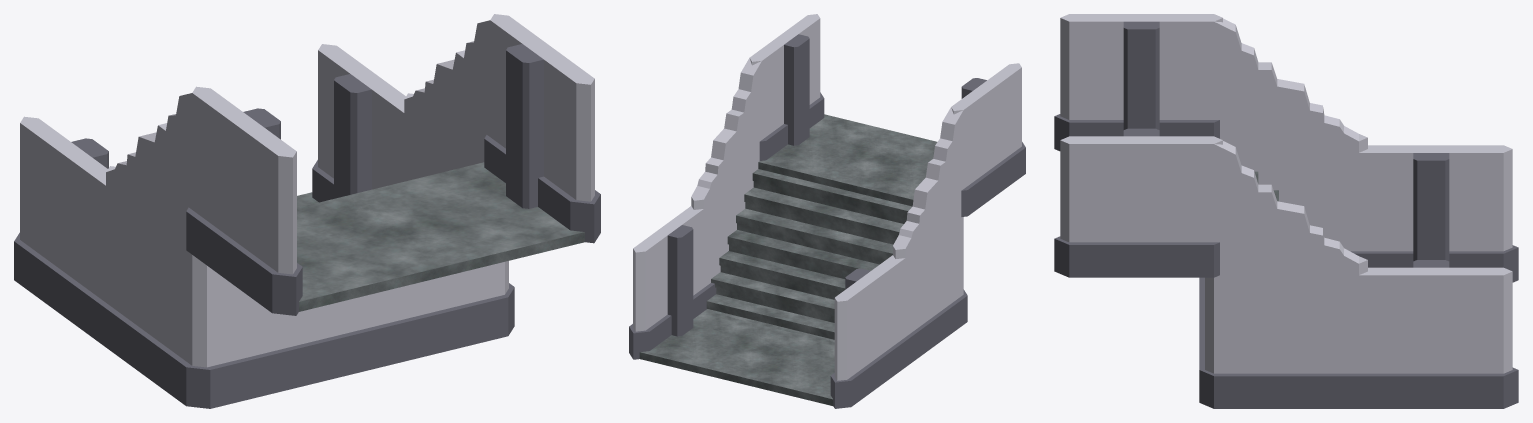
The model's file is hallway_stair_03.fbx.
The picture shows the model from 3 angles, left to right: view 1: azimuth 30°, elevation 25°; view 2: azimuth 150°, elevation 25°; view 3: azimuth 270°, elevation 25°; orthographic projection. The views are drawn at different scales.
Parts seen in each view (by area): view 1: stairs_01_0, floor_04_1, wall_02_9, wall_02_10, wall_02_8, wall_02_7; view 2: stairs_01_0, floor_04_0, floor_04_1, wall_02_8, wall_02_7, wall_02_9, wall_02_10; view 3: stairs_01_0, wall_02_10, wall_02_7, wall_02_9, wall_02_8.
Boxes of the visible parts, <box> form: stairs_01_0: <box>100,16,514,408</box>; floor_04_1: <box>297,162,584,311</box>; wall_02_9: <box>186,86,302,315</box>; wall_02_10: <box>484,14,600,243</box>; wall_02_8: <box>14,116,108,342</box>; wall_02_7: <box>312,44,405,202</box>; stairs_01_0: <box>691,56,967,363</box>; floor_04_0: <box>639,310,834,405</box>; floor_04_1: <box>758,114,937,206</box>; wall_02_8: <box>830,255,909,408</box>; wall_02_7: <box>629,206,707,359</box>; wall_02_9: <box>951,63,1025,216</box>; wall_02_10: <box>749,14,824,160</box>; stairs_01_0: <box>1199,14,1367,408</box>; wall_02_10: <box>1054,128,1222,277</box>; wall_02_7: <box>1359,260,1518,408</box>; wall_02_9: <box>1054,14,1222,151</box>; wall_02_8: <box>1357,145,1518,282</box>.
Size of the model in its own units: 22.05 by 20 by 32.05.
